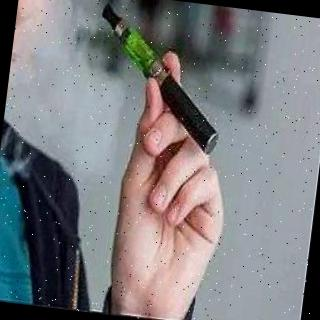smoke: (9, 36, 129, 168)
